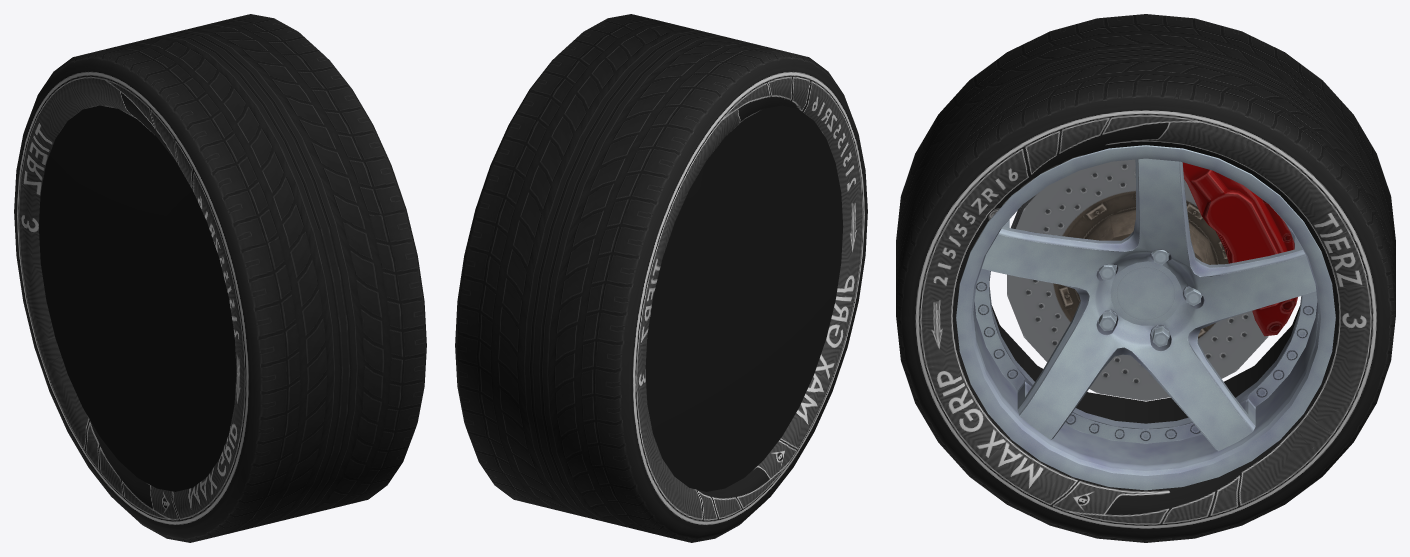
The model's file is wheel.fbx.
3 renders of one model, left to right at view 1: azimuth 30°, elevation 25°; view 2: azimuth 150°, elevation 25°; view 3: azimuth 270°, elevation 25°, orthographic.
Visible parts, largest first — view 1: tire1-fl; view 2: tire1-fl; view 3: tire1-fl, rim-fl, disk-fl, caliper-fl.
Part boxes in pixels (x1=…): tire1-fl: x1=14, y1=14, x2=426, y2=542; tire1-fl: x1=455, y1=14, x2=867, y2=542; tire1-fl: x1=896, y1=14, x2=1395, y2=542; rim-fl: x1=956, y1=145, x2=1335, y2=490; disk-fl: x1=1007, y1=159, x2=1268, y2=400; caliper-fl: x1=1182, y1=162, x2=1297, y2=336.
Bounding box in the file's own units: 0.2694 × 0.6608 × 0.6608.
